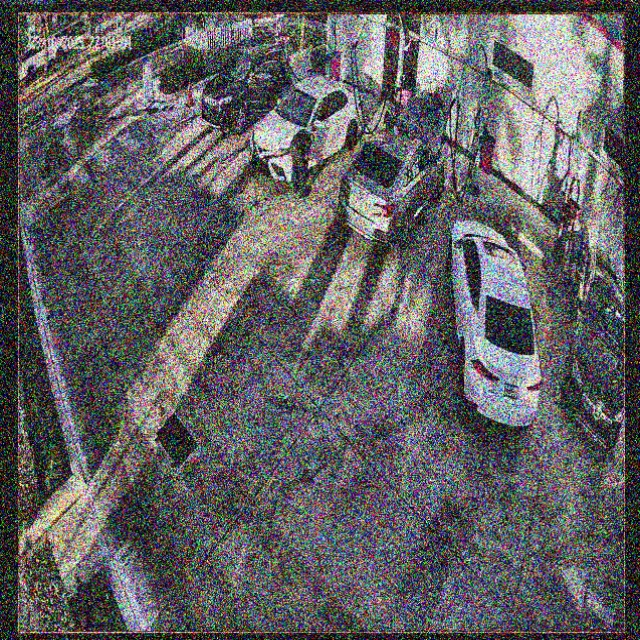Car: (450, 219, 540, 428), (341, 103, 442, 248), (254, 73, 364, 179)
